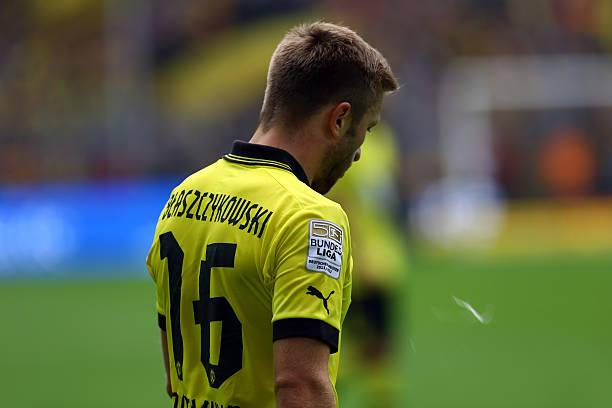Spitting: (257, 0, 443, 251)
